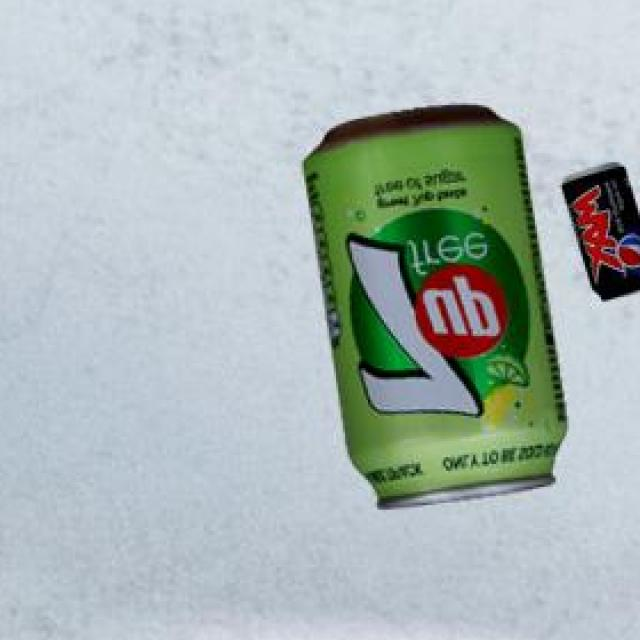logam: (301, 109, 563, 511), (559, 166, 640, 305)
